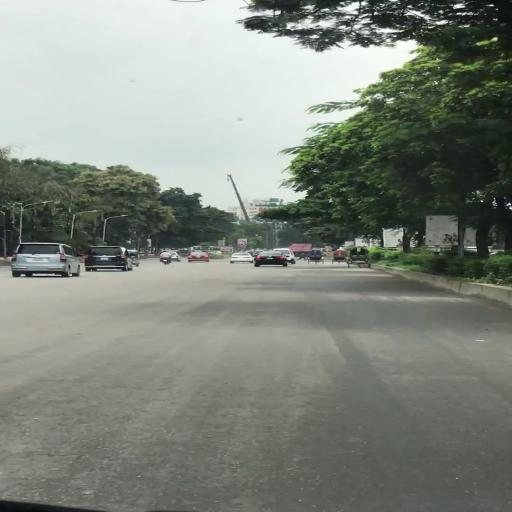car: (256, 252, 288, 268), (189, 252, 212, 263), (230, 254, 254, 264)
motorbike: (160, 252, 172, 265)
rickshaw: (347, 247, 372, 270), (330, 249, 350, 266), (308, 250, 325, 266)
van: (12, 243, 81, 279), (84, 247, 130, 273)
